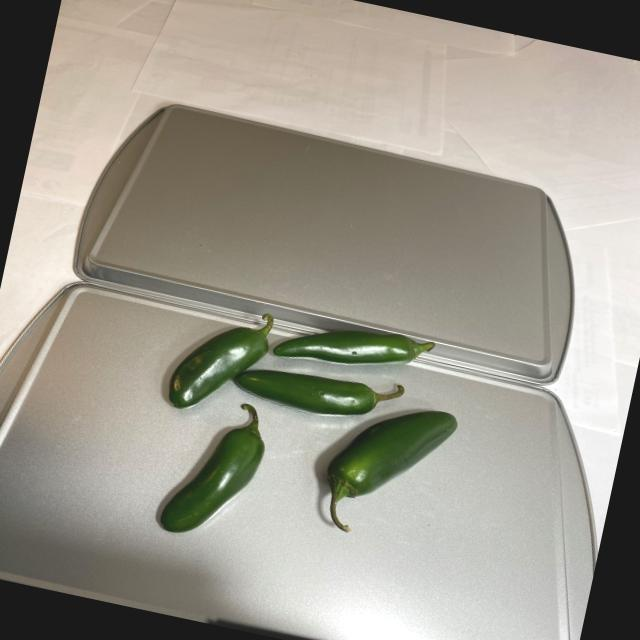chilli: (124, 276, 480, 592)
